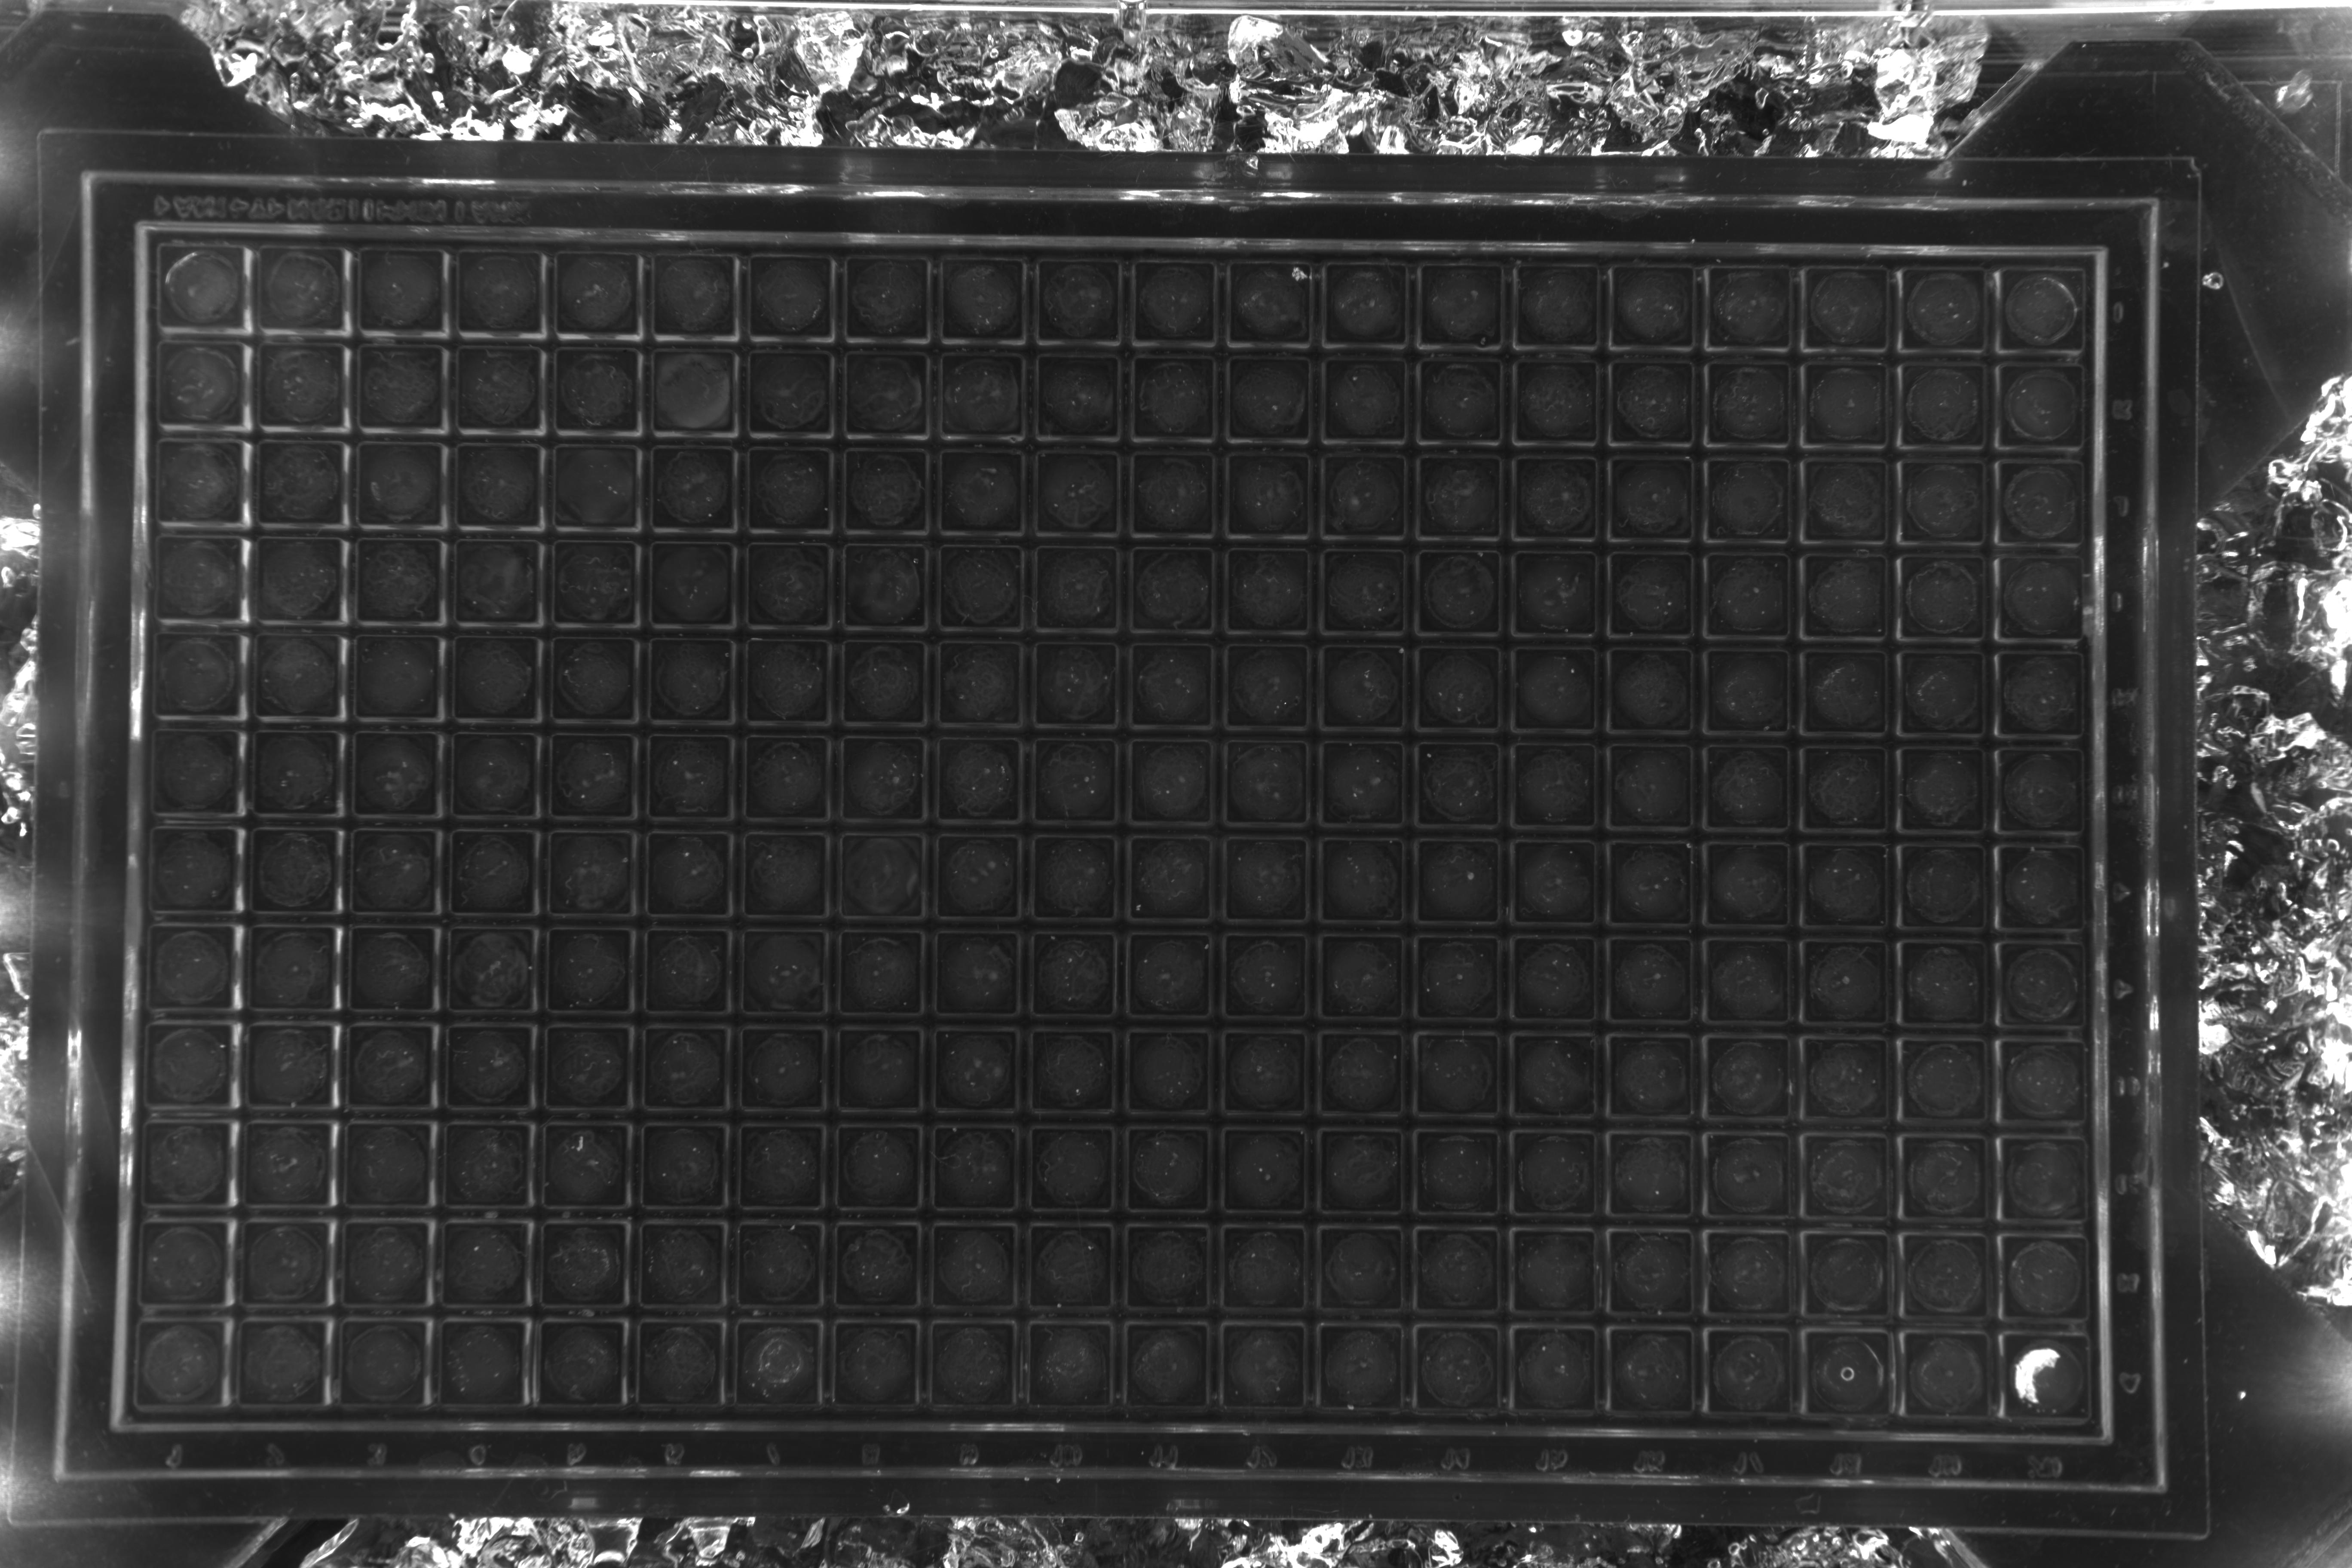WM_well: (297, 945, 387, 1032), (688, 1043, 777, 1130), (205, 553, 292, 640), (303, 457, 390, 544), (390, 1242, 478, 1330), (486, 1340, 574, 1428), (693, 654, 780, 742), (787, 947, 875, 1034), (789, 752, 877, 840), (980, 1239, 1067, 1326), (983, 464, 1071, 551), (983, 850, 1071, 938), (1078, 1239, 1165, 1326), (1176, 656, 1263, 744), (1176, 754, 1263, 842), (1368, 464, 1456, 551), (1372, 1144, 1459, 1232), (1465, 269, 1552, 357), (1470, 1244, 1557, 1332), (1566, 948, 1654, 1036), (1662, 754, 1750, 842), (1762, 950, 1850, 1038), (1860, 756, 1948, 843), (2060, 954, 2147, 1041)
